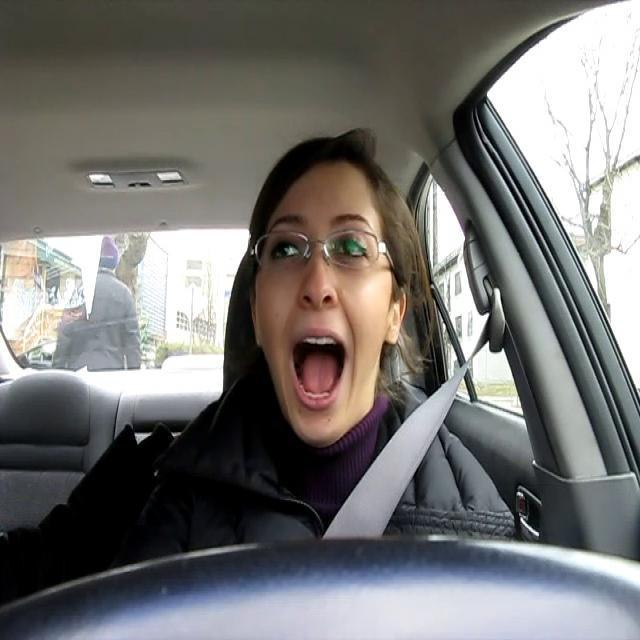open-mouth: (286, 322, 351, 414)
